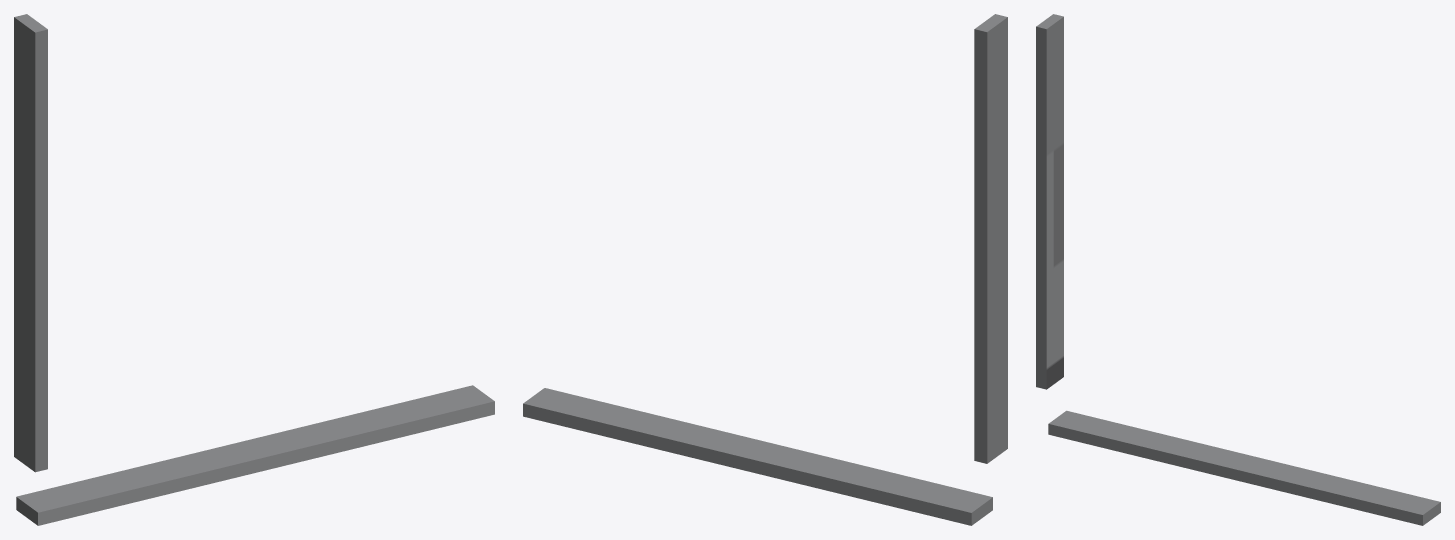
3 renders of one model, left to right at view 1: azimuth 30°, elevation 25°; view 2: azimuth 150°, elevation 25°; view 3: azimuth 330°, elevation 25°, orthographic. The views are drawn at different scales.
Size of the model in its own units: 0.9944 by 1.02 by 0.1036.
